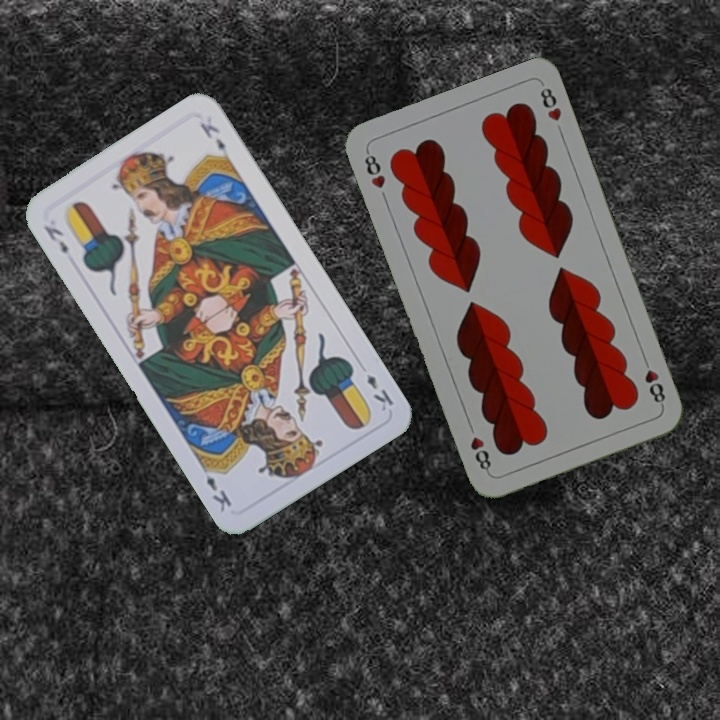EK: (362, 370, 396, 414), (39, 221, 71, 257)
H8: (638, 352, 668, 409), (360, 147, 388, 191)
